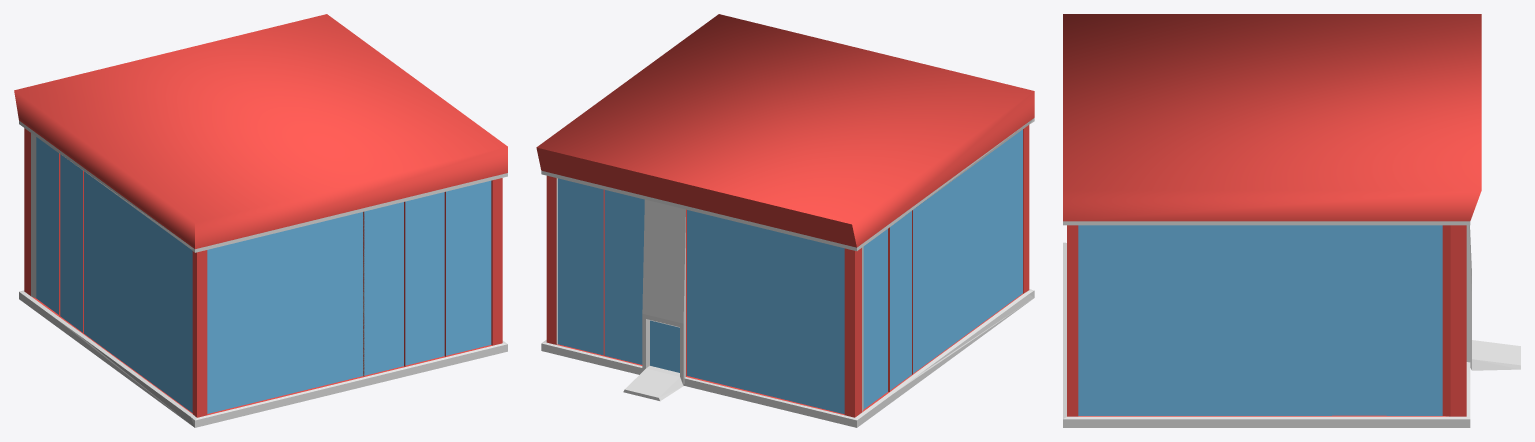
The model's file is Shop8x8x5Red.fbx.
3 views of the same model, side by side, from view 1: azimuth 30°, elevation 25°; view 2: azimuth 150°, elevation 25°; view 3: azimuth 270°, elevation 25° (orthographic). The views are drawn at different scales.
Visible parts, largest first — view 1: Shop.001; view 2: Shop.001; view 3: Shop.001.
Part boxes in pixels (x1,y1,x2,y2): Shop.001: (14,14,507,427); Shop.001: (536,14,1034,427); Shop.001: (1063,14,1520,427).
Bounding box in the file's own units: 7.96 × 4.99 × 8.72.
1 material, 1 textured.
